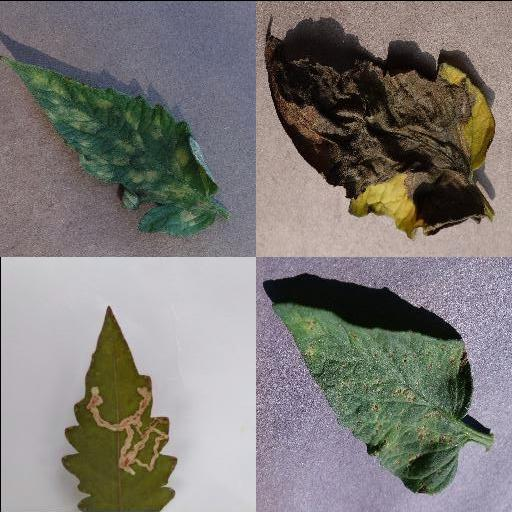Late Blight: (262, 31, 498, 241)
Leaf Miner: (59, 303, 179, 512)
Leaf Mold: (2, 55, 218, 237)
Septoria: (270, 303, 474, 495)
